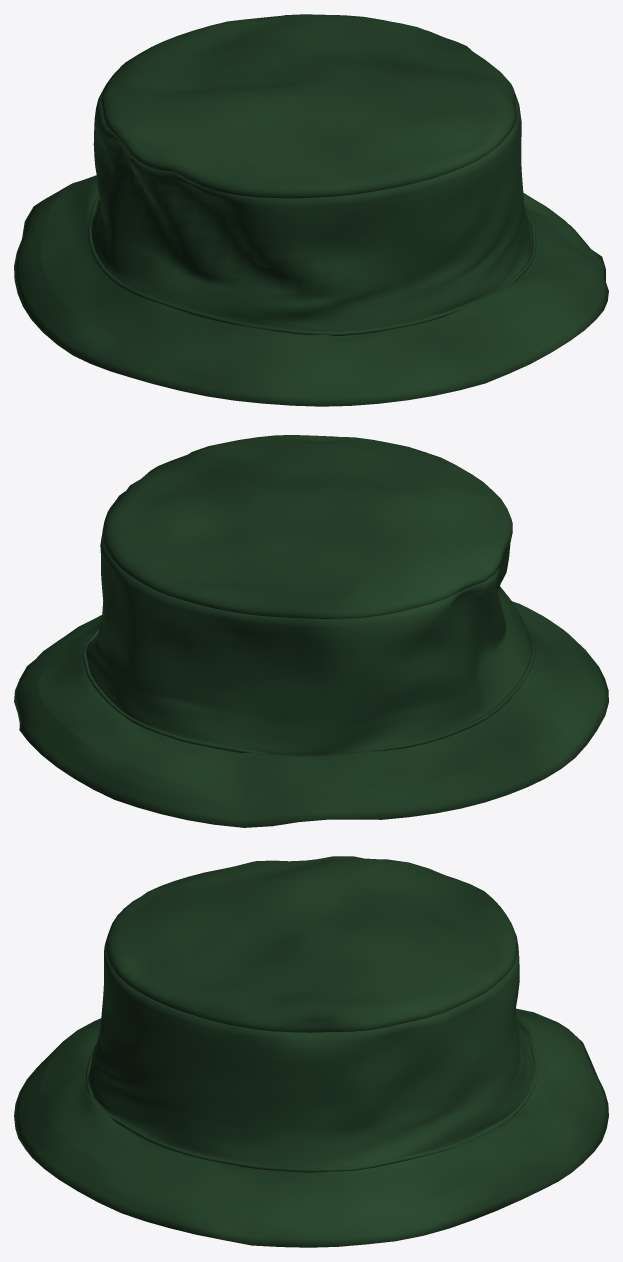
Rendered from forest_green_sun_hat.glb.
3 renders of one model, top to bottom at view 1: azimuth 30°, elevation 25°; view 2: azimuth 150°, elevation 25°; view 3: azimuth 270°, elevation 25°, orthographic.
Parts seen in each view (by area): view 1: Object_2; view 2: Object_2; view 3: Object_2.
Boxes of the visible parts, left/top/right/bottom form: Object_2: left=14, top=14, right=608, bottom=406; Object_2: left=14, top=435, right=608, bottom=827; Object_2: left=14, top=856, right=608, bottom=1247.
Bounding box in the file's own units: 2.56 × 1.04 × 2.61.
1 material, 1 textured.
